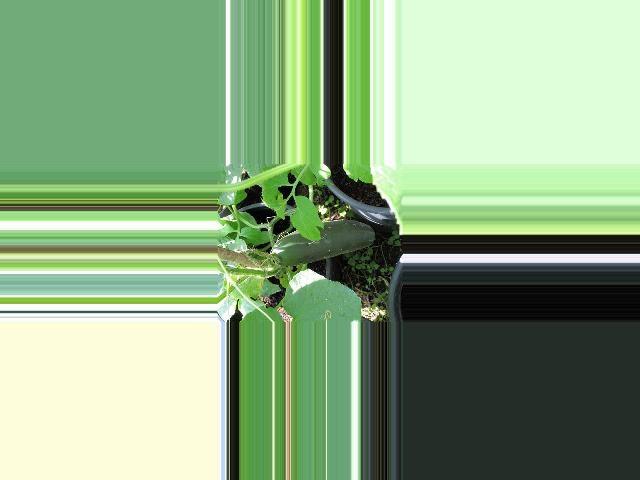cucumber: (271, 220, 374, 266)
